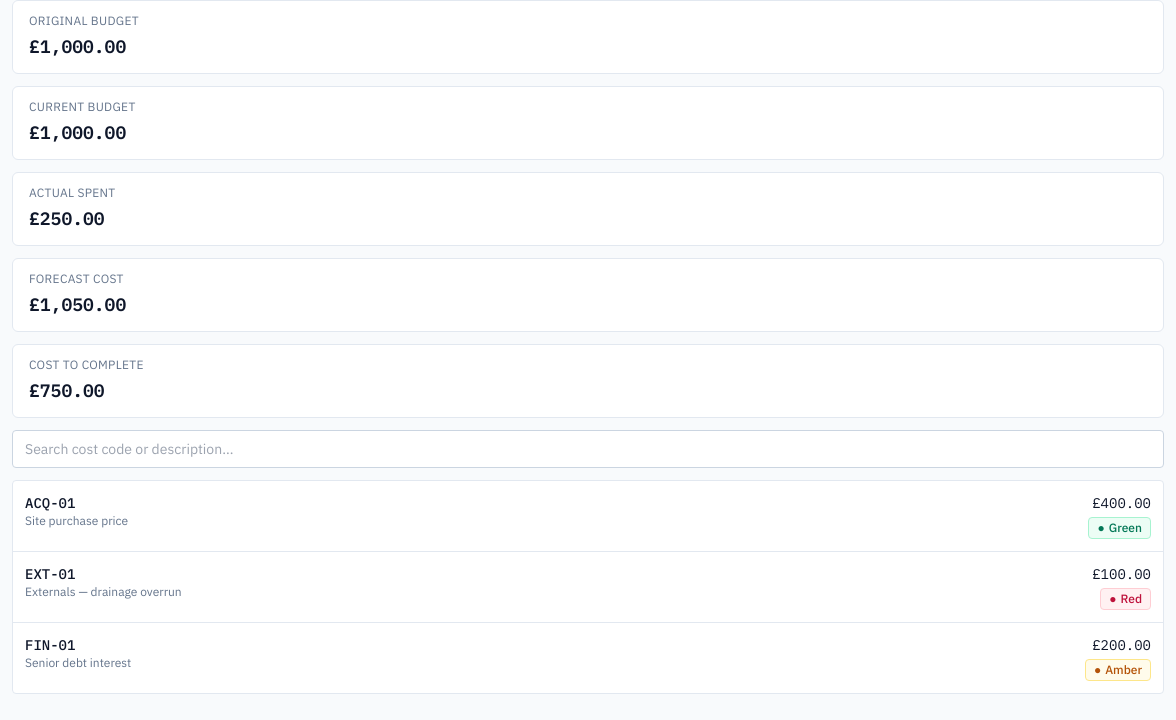
it: Mobile search — case-insensitive over code + description › zero matches → empty-state message
Type "zzzz" into the search field with test id "bg2-mobile-search". click: (588, 449)
box: [12, 430, 1164, 468]
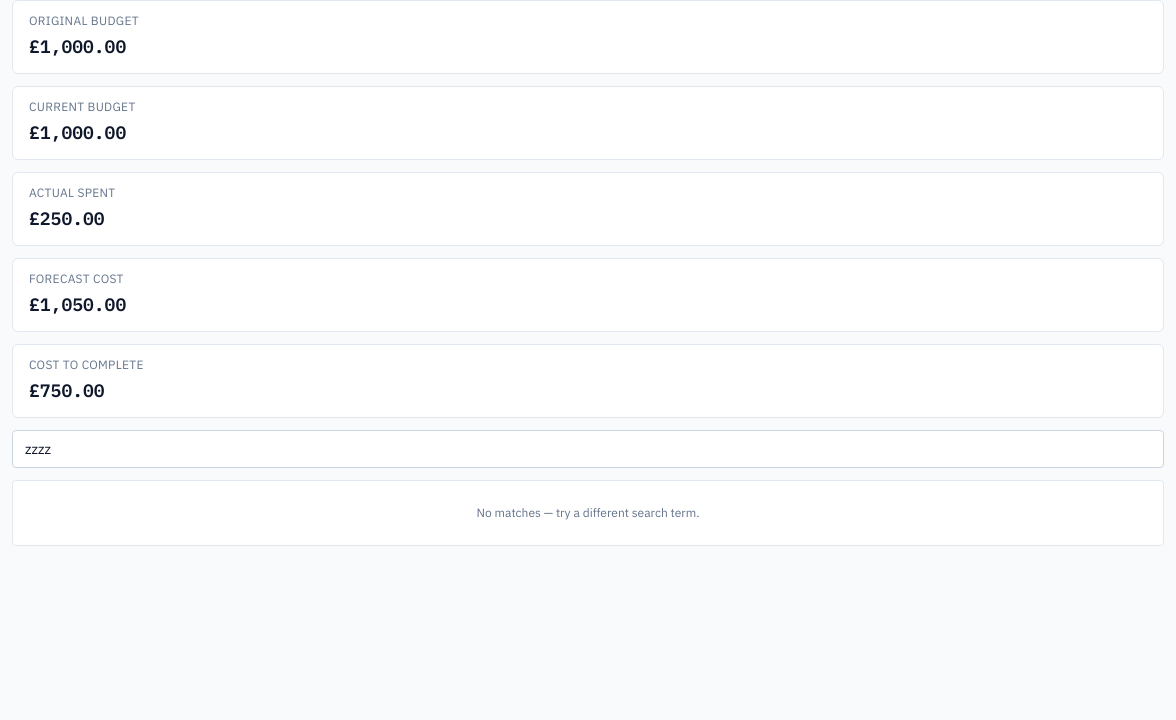
expect the list item with test id "bg2-mobile-empty" shows "No matches": met, box [476, 505, 700, 520]
